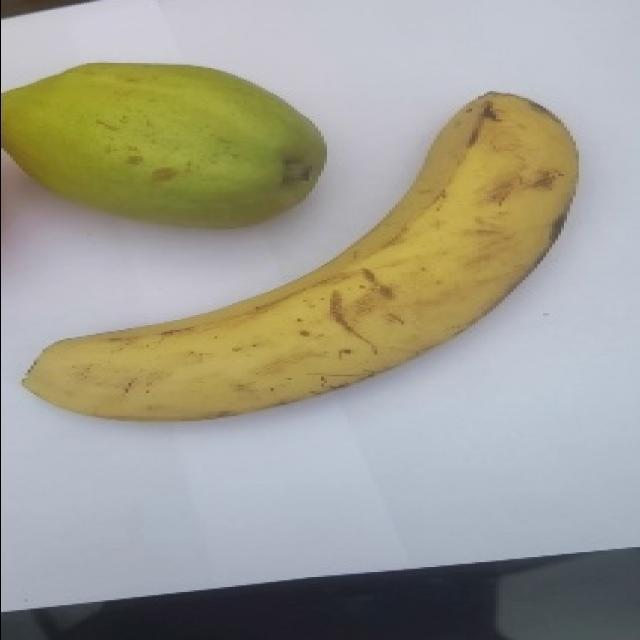Banana: (20, 89, 579, 422)
